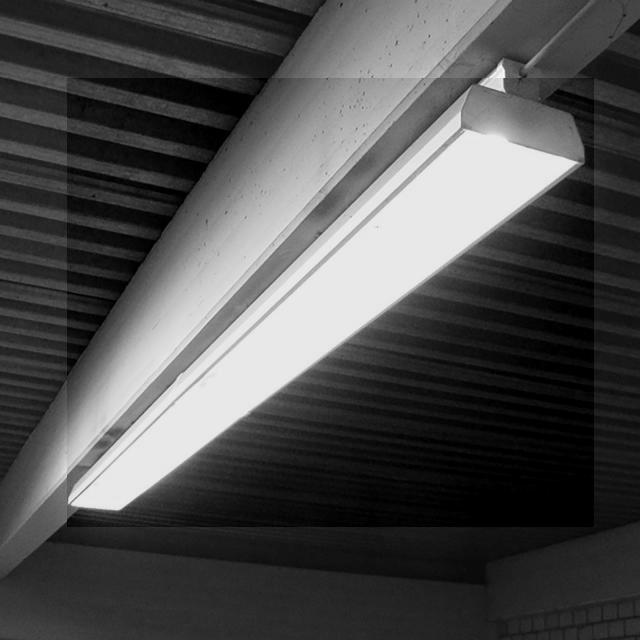light: (66, 68, 585, 514)
